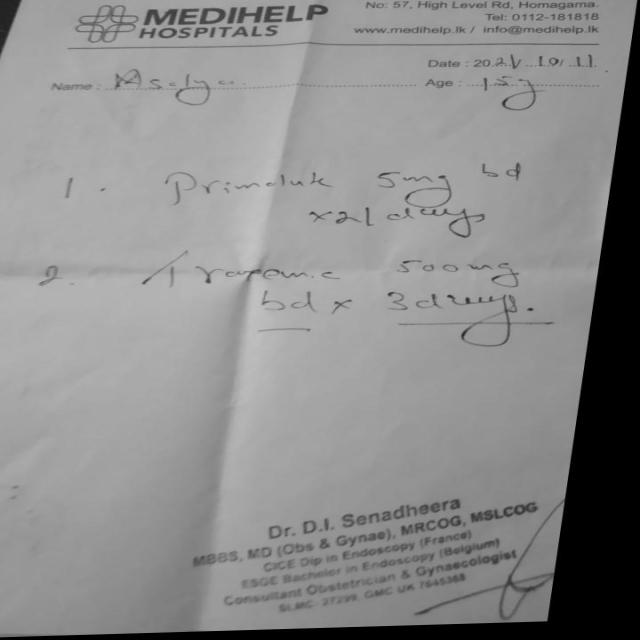Prescription: (144, 254, 567, 338), (166, 156, 538, 242)
